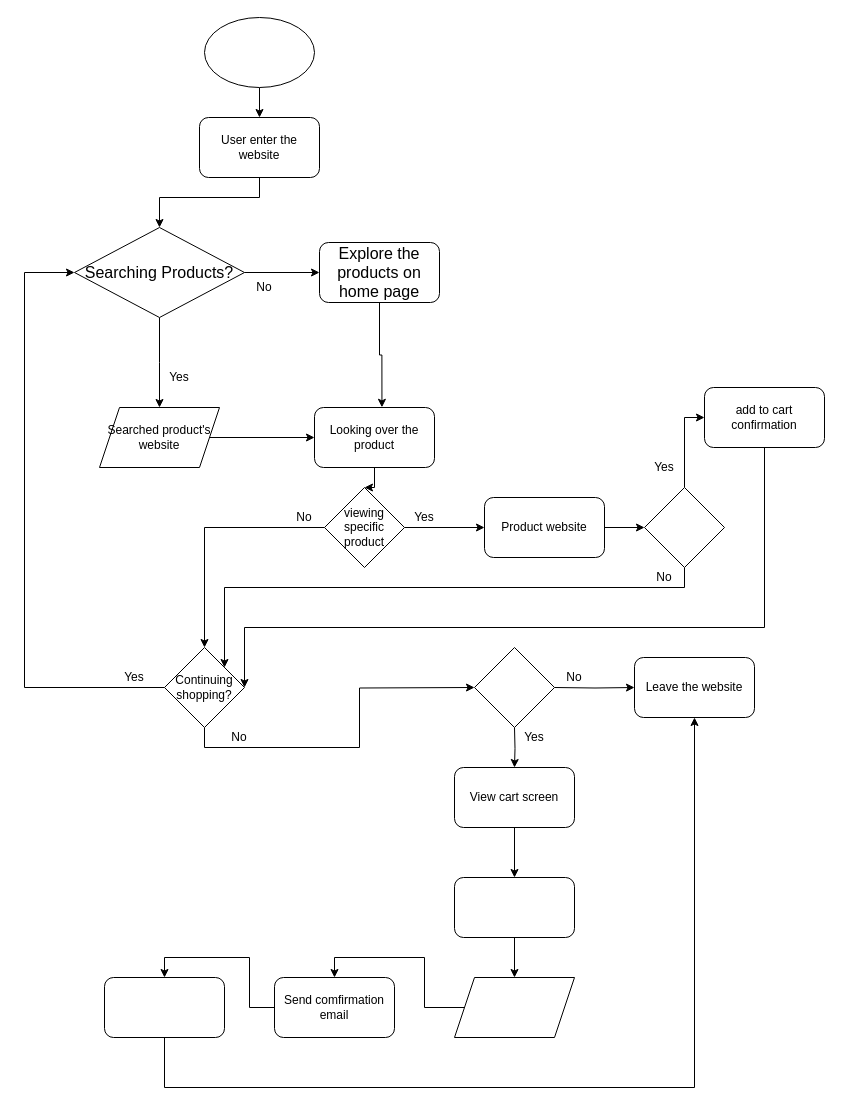
Some shapes in this 842 by 1113 pixel diagram are drawn without their labels. Here are the shapes that lost their labels. From the top down, the centre of each, then its label:
the point at 259,52: Start
the point at 684,527: add product to cart?
the point at 514,687: Check out?
the point at 514,907: View payment screen
the point at 164,1007: Comfirmation screen
the point at 514,1007: Payment information
